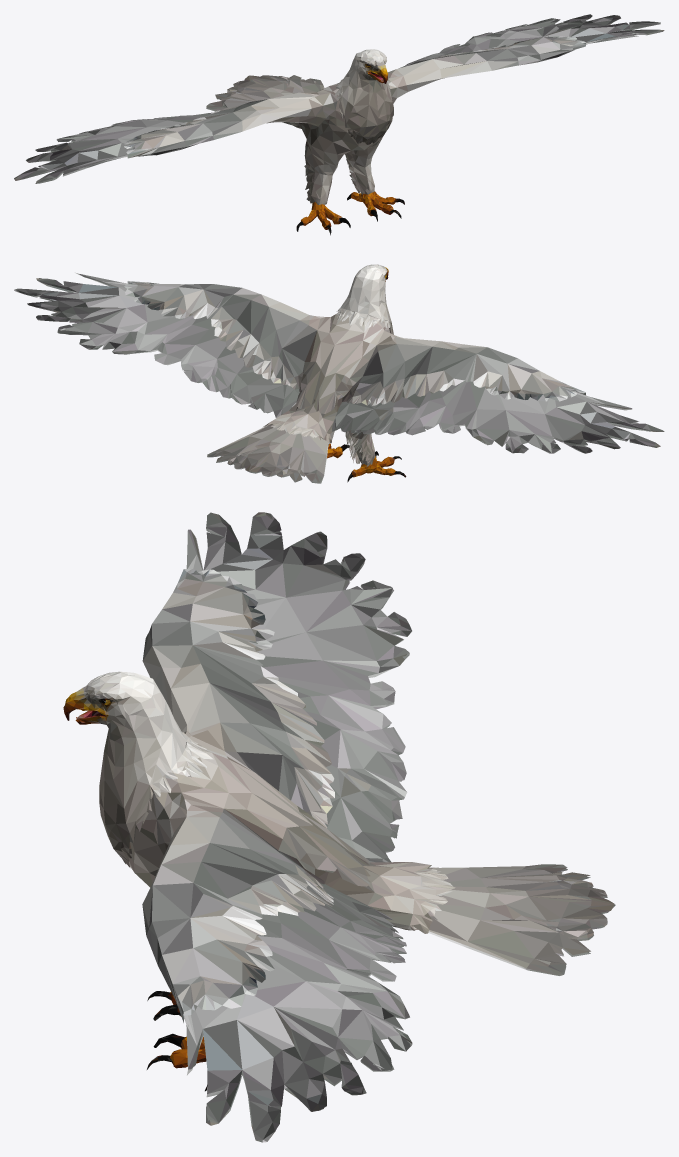
Rendered from eagle.obj.
The picture shows the model from 3 angles, top to bottom: view 1: azimuth 30°, elevation 25°; view 2: azimuth 150°, elevation 25°; view 3: azimuth 270°, elevation 25°; orthographic projection. The views are drawn at different scales.
Visible parts, largest first — view 1: Eagle; view 2: Eagle; view 3: Eagle.
Part boxes in pixels (x1=…): Eagle: x1=14, y1=14, x2=664, y2=235; Eagle: x1=14, y1=264, x2=664, y2=483; Eagle: x1=63, y1=512, x2=615, y2=1142.
Size of the model in its own units: 52.69 by 14.25 by 19.5.
1 material, 1 textured.
